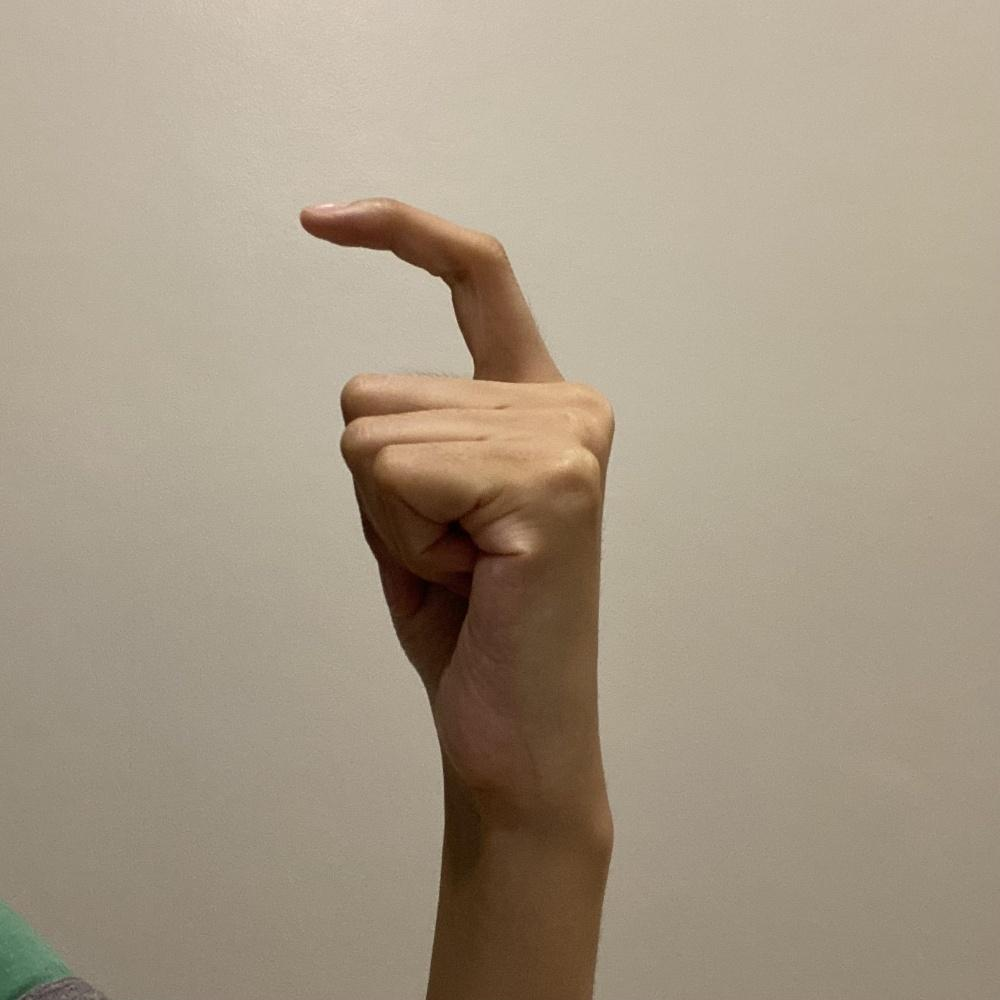x: (296, 189, 622, 841)
